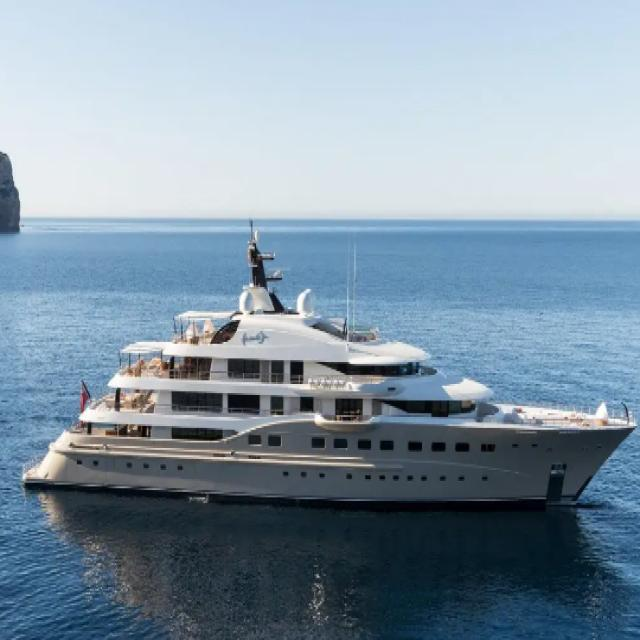passenger ship: (24, 229, 630, 558)
